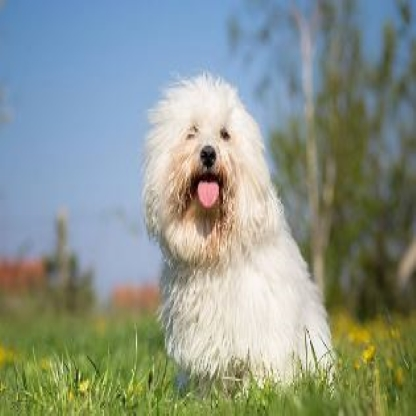maltese: (140, 69, 331, 377)
